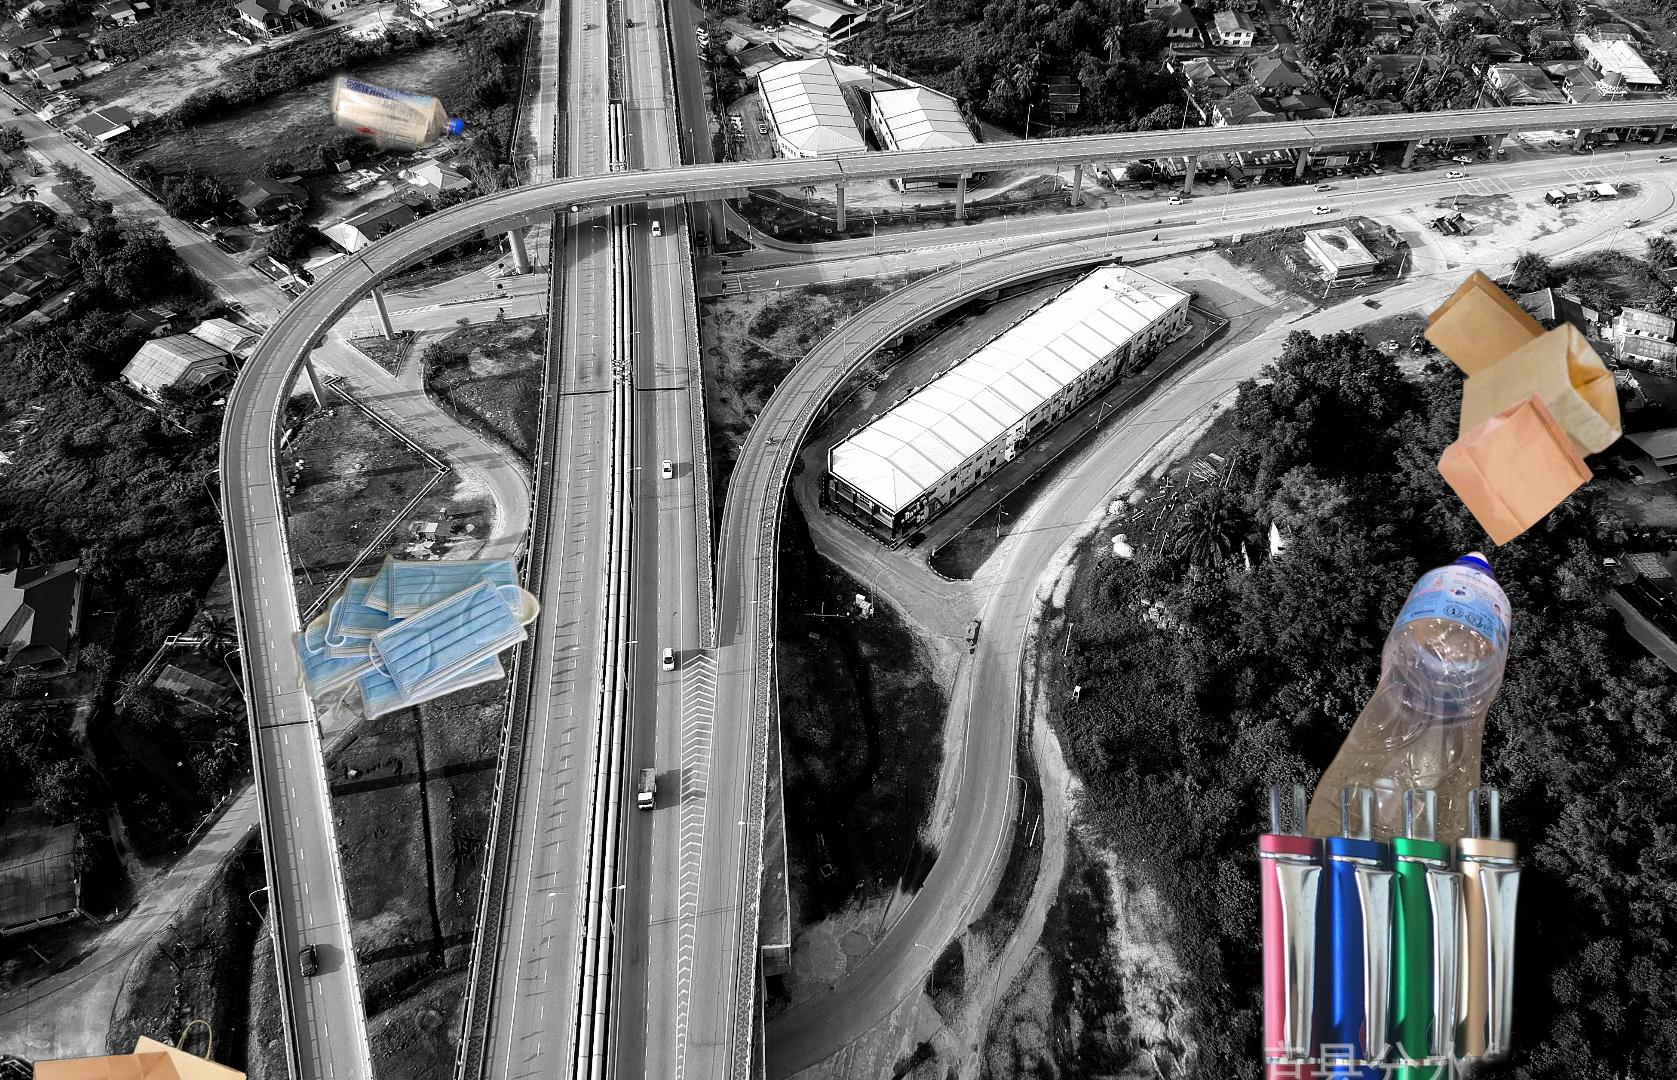paper-bag: (1420, 266, 1626, 550), (31, 1016, 251, 1080)
penholder: (1241, 771, 1677, 1080)
plastic-bottles: (1279, 547, 1514, 976), (319, 57, 477, 167)
trash: (286, 552, 548, 720)
